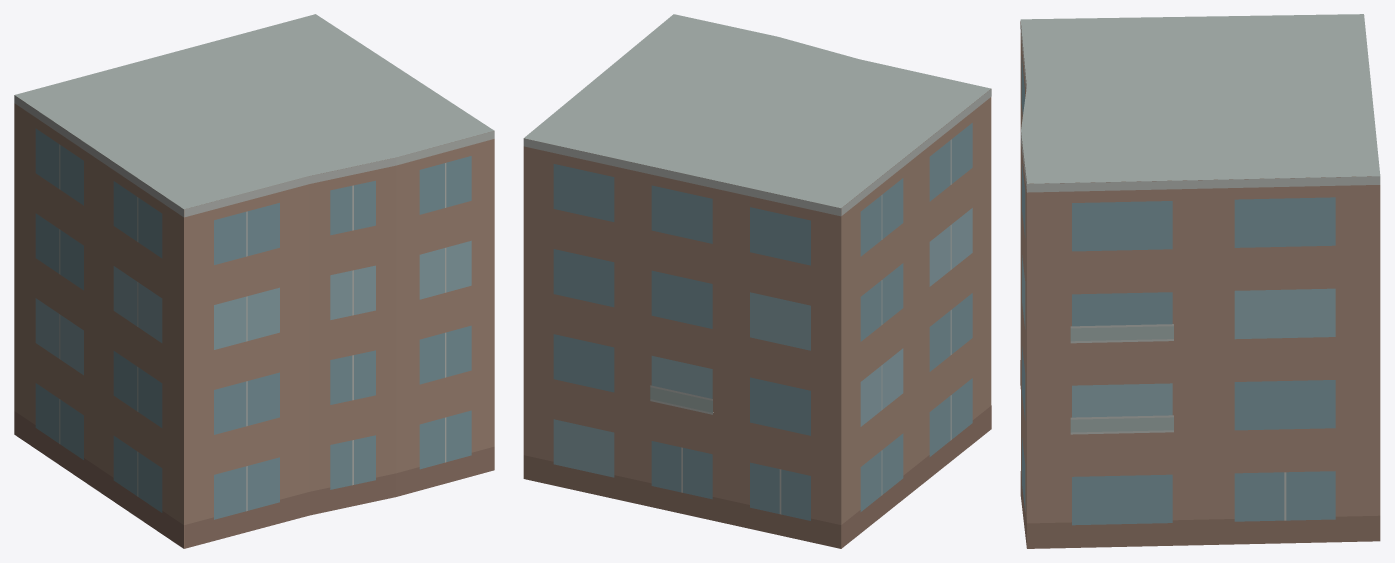
The model's file is survey-upis-32928096.glb.
3 renders of one model, left to right at view 1: azimuth 30°, elevation 25°; view 2: azimuth 150°, elevation 25°; view 3: azimuth 270°, elevation 25°, orthographic. The views are drawn at different scales.
Parts seen in each view (by area): view 1: survey-upis-32928096.tmp; view 2: survey-upis-32928096.tmp; view 3: survey-upis-32928096.tmp.
Part boxes in pixels (x1,y1,x2,y2): survey-upis-32928096.tmp: (14,14,494,548); survey-upis-32928096.tmp: (523,14,991,548); survey-upis-32928096.tmp: (1020,14,1380,548).
Size of the model in its own units: 10.24 by 10.25 by 9.17.
